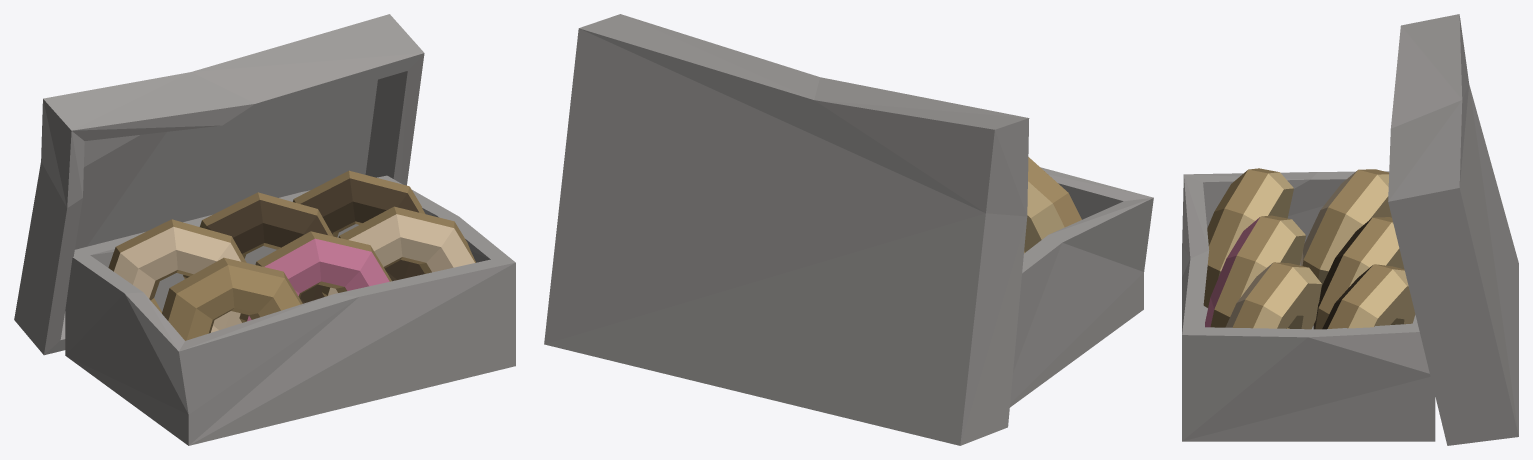
Rendered from DonutBox.obj.
3 renders of one model, left to right at view 1: azimuth 30°, elevation 25°; view 2: azimuth 150°, elevation 25°; view 3: azimuth 270°, elevation 25°, orthographic. The views are drawn at different scales.
Parts seen in each view (by area): view 1: DonutBox; view 2: DonutBox; view 3: DonutBox.
Boxes of the visible parts, box(x1,y1,x2,y2) form: DonutBox: box(14, 14, 515, 445); DonutBox: box(544, 14, 1153, 445); DonutBox: box(1182, 14, 1518, 445).
Bounding box in the file's own units: 0.1466 × 0.1 × 0.1183.
Materials: 1 (1 with a texture image).
